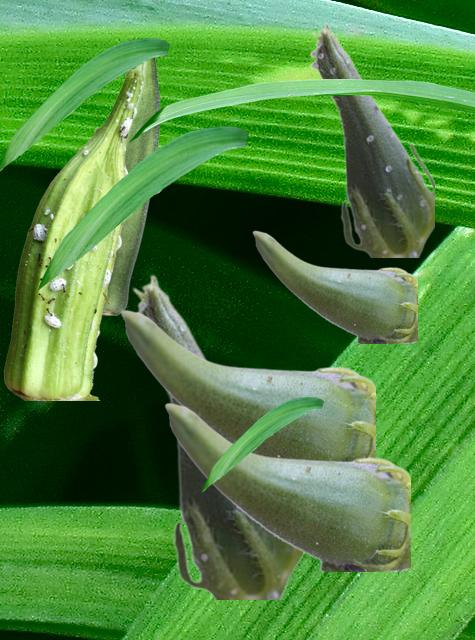okra: (130, 274, 301, 598), (4, 69, 143, 399), (164, 402, 409, 570), (120, 309, 374, 460), (309, 22, 433, 256), (252, 230, 416, 342), (103, 58, 159, 314)
